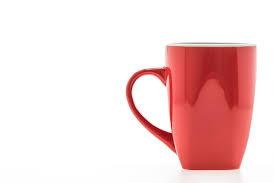cup: (126, 43, 255, 169)
